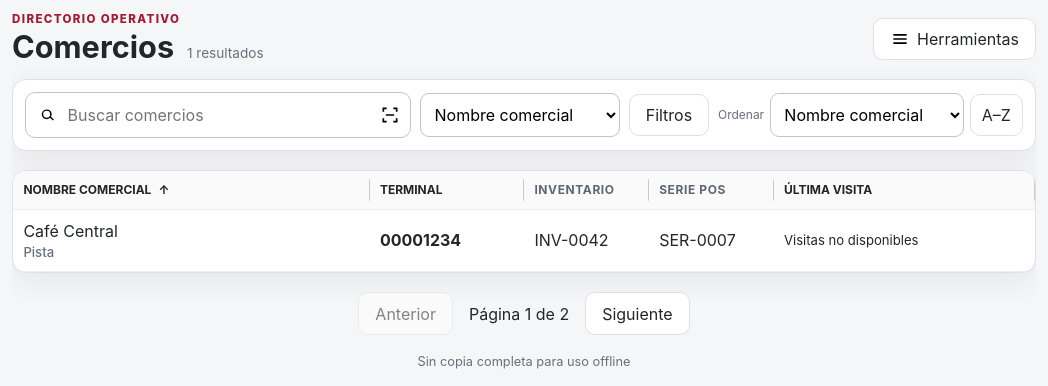
it: interfaz de Comercios › expone aria-sort y anuncia la dirección activa
What coordinates should you click on to do the following:
click the button with aria-label "Ordenar por Nombre comercial, actualmente ascendente"
I would click on:
 (96, 190)
Its box is top-left (23, 182), bottom-right (170, 197).
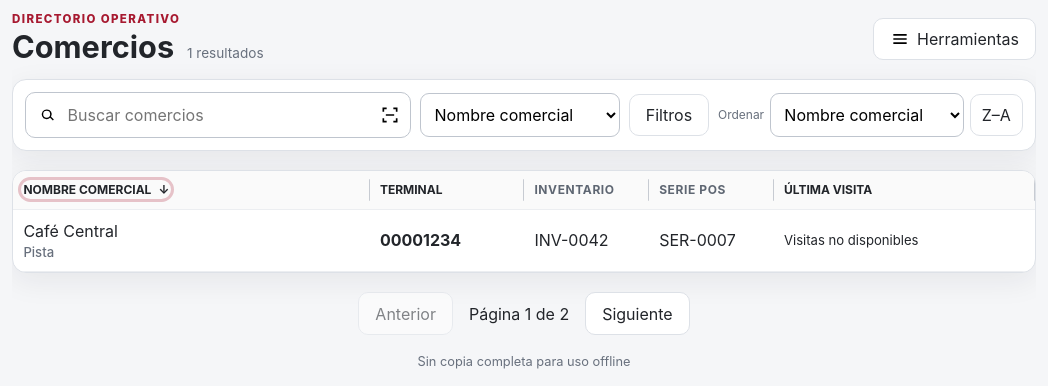
Now the button with aria-label "Ordenar por Nombre comercial, actualmente descendente" is shown, box top-left (23, 182), bottom-right (170, 197)
